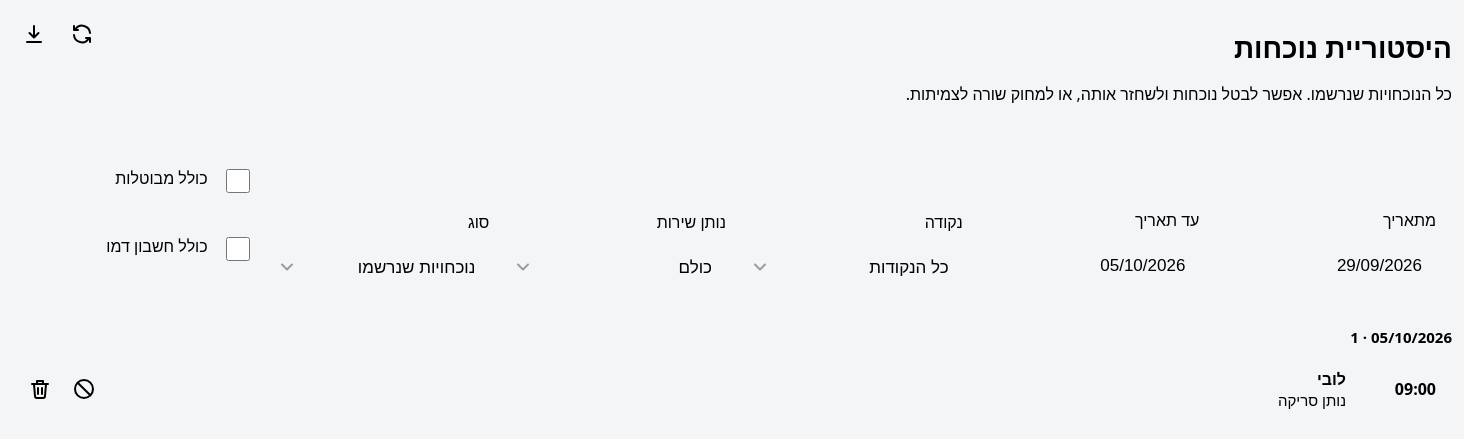
Scenario: a row of a visit that was not counted › has no action at all: no cancel, no restore, no delete, and no file to export
Expected: the text "נותן סריקה" is shown, left=1278, top=390, right=1346, bottom=410
Select "לא נקלטו" in the dropdown labelled "סוג" at point(377, 267), box left=265, top=241, right=489, bottom=293
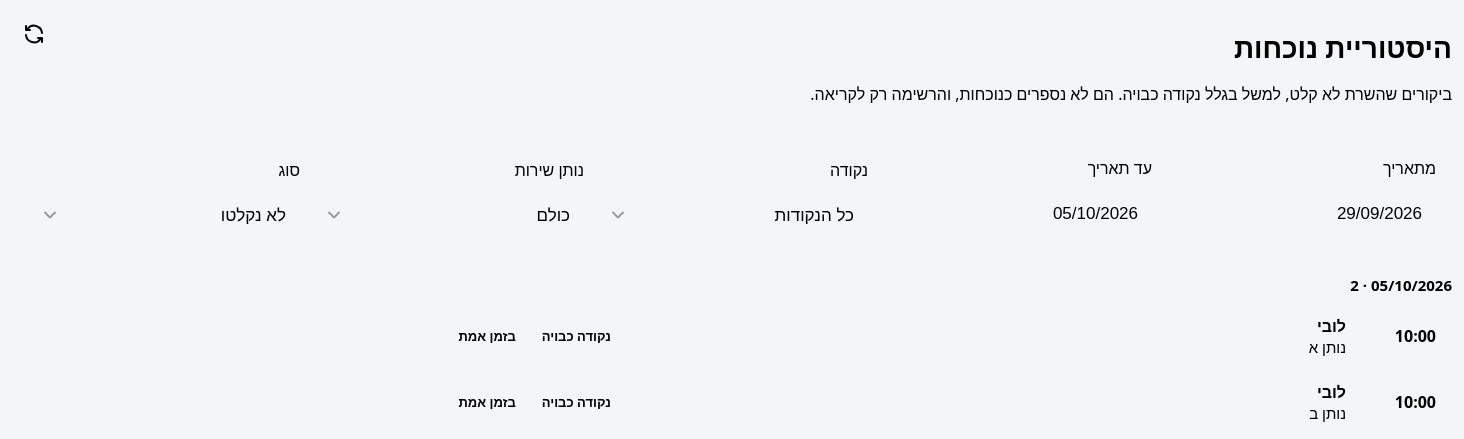
Now the text "נותן א" is shown, box left=1309, top=337, right=1346, bottom=357
Now the text labelled "כולל מבוטלות" is gone
Now the text labelled "כולל חשבון דמו" is gone
